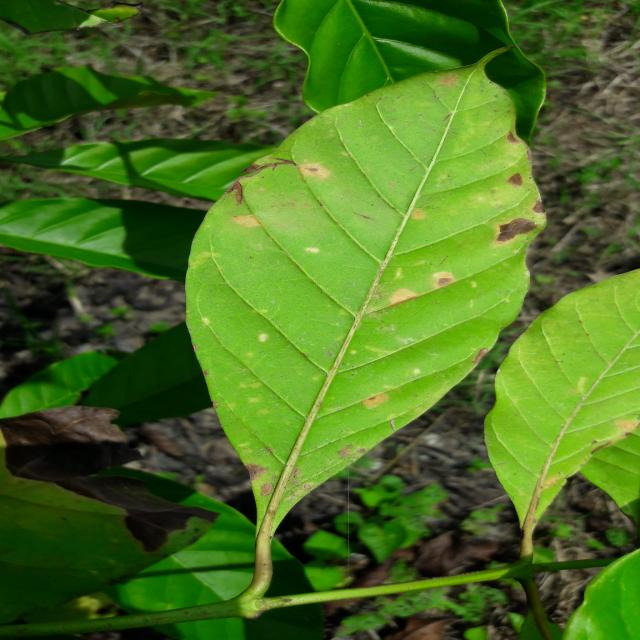Enfermedad-Roya: (184, 56, 546, 620)
